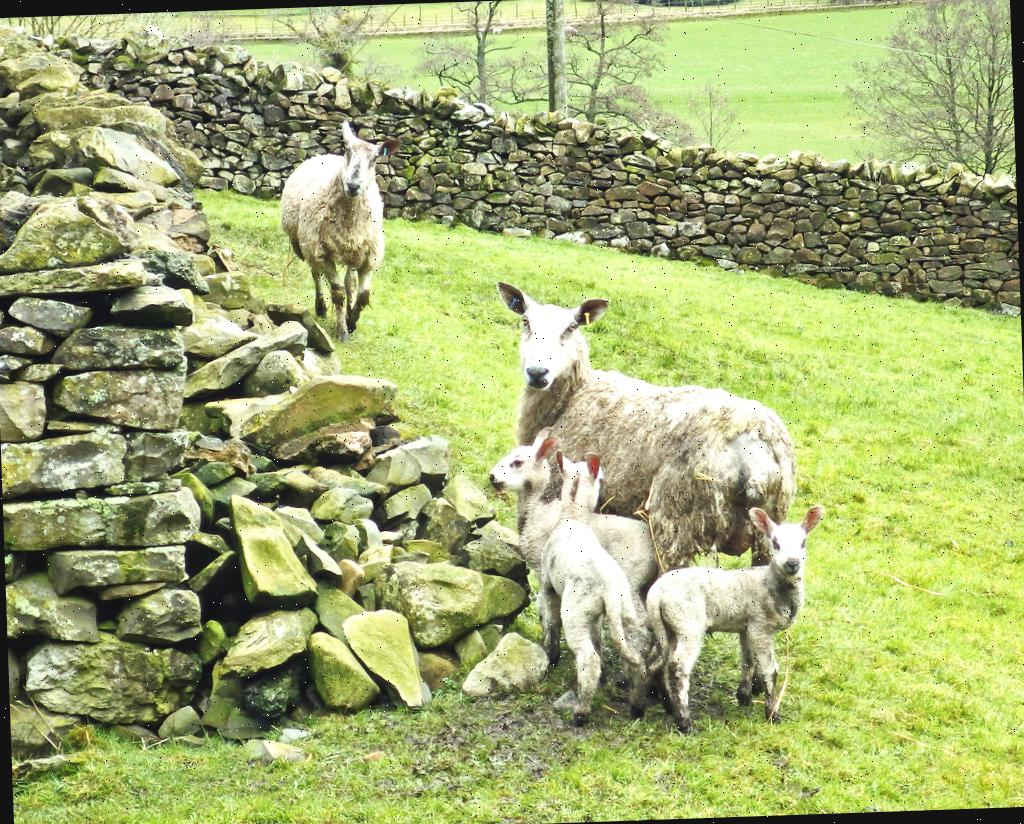Sheep: (488, 269, 796, 712), (486, 420, 670, 667), (642, 502, 831, 730), (536, 446, 652, 729), (276, 118, 405, 344)
